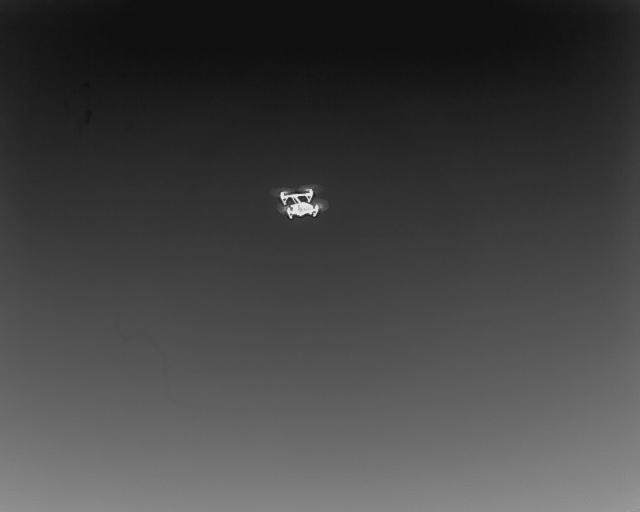drone: (267, 180, 332, 224)
